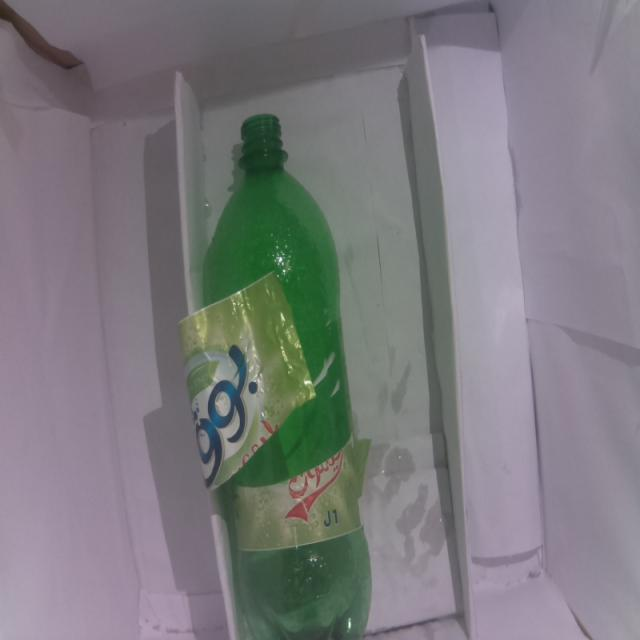good: (181, 90, 378, 640)
